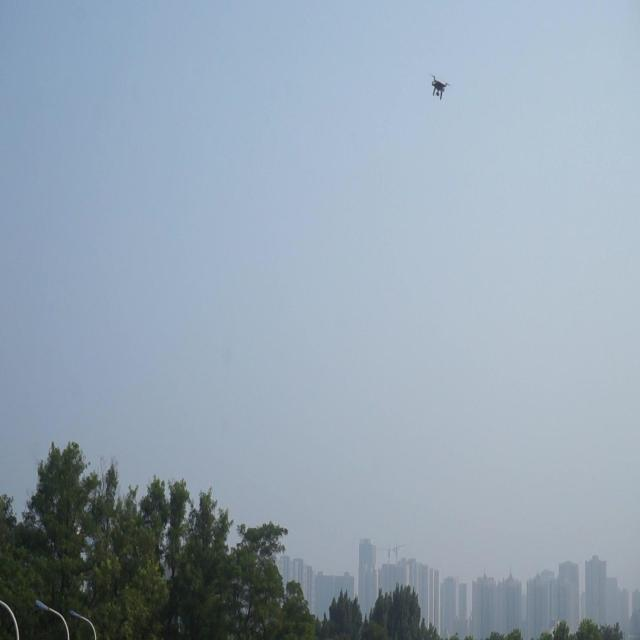drone: (428, 72, 449, 102)
